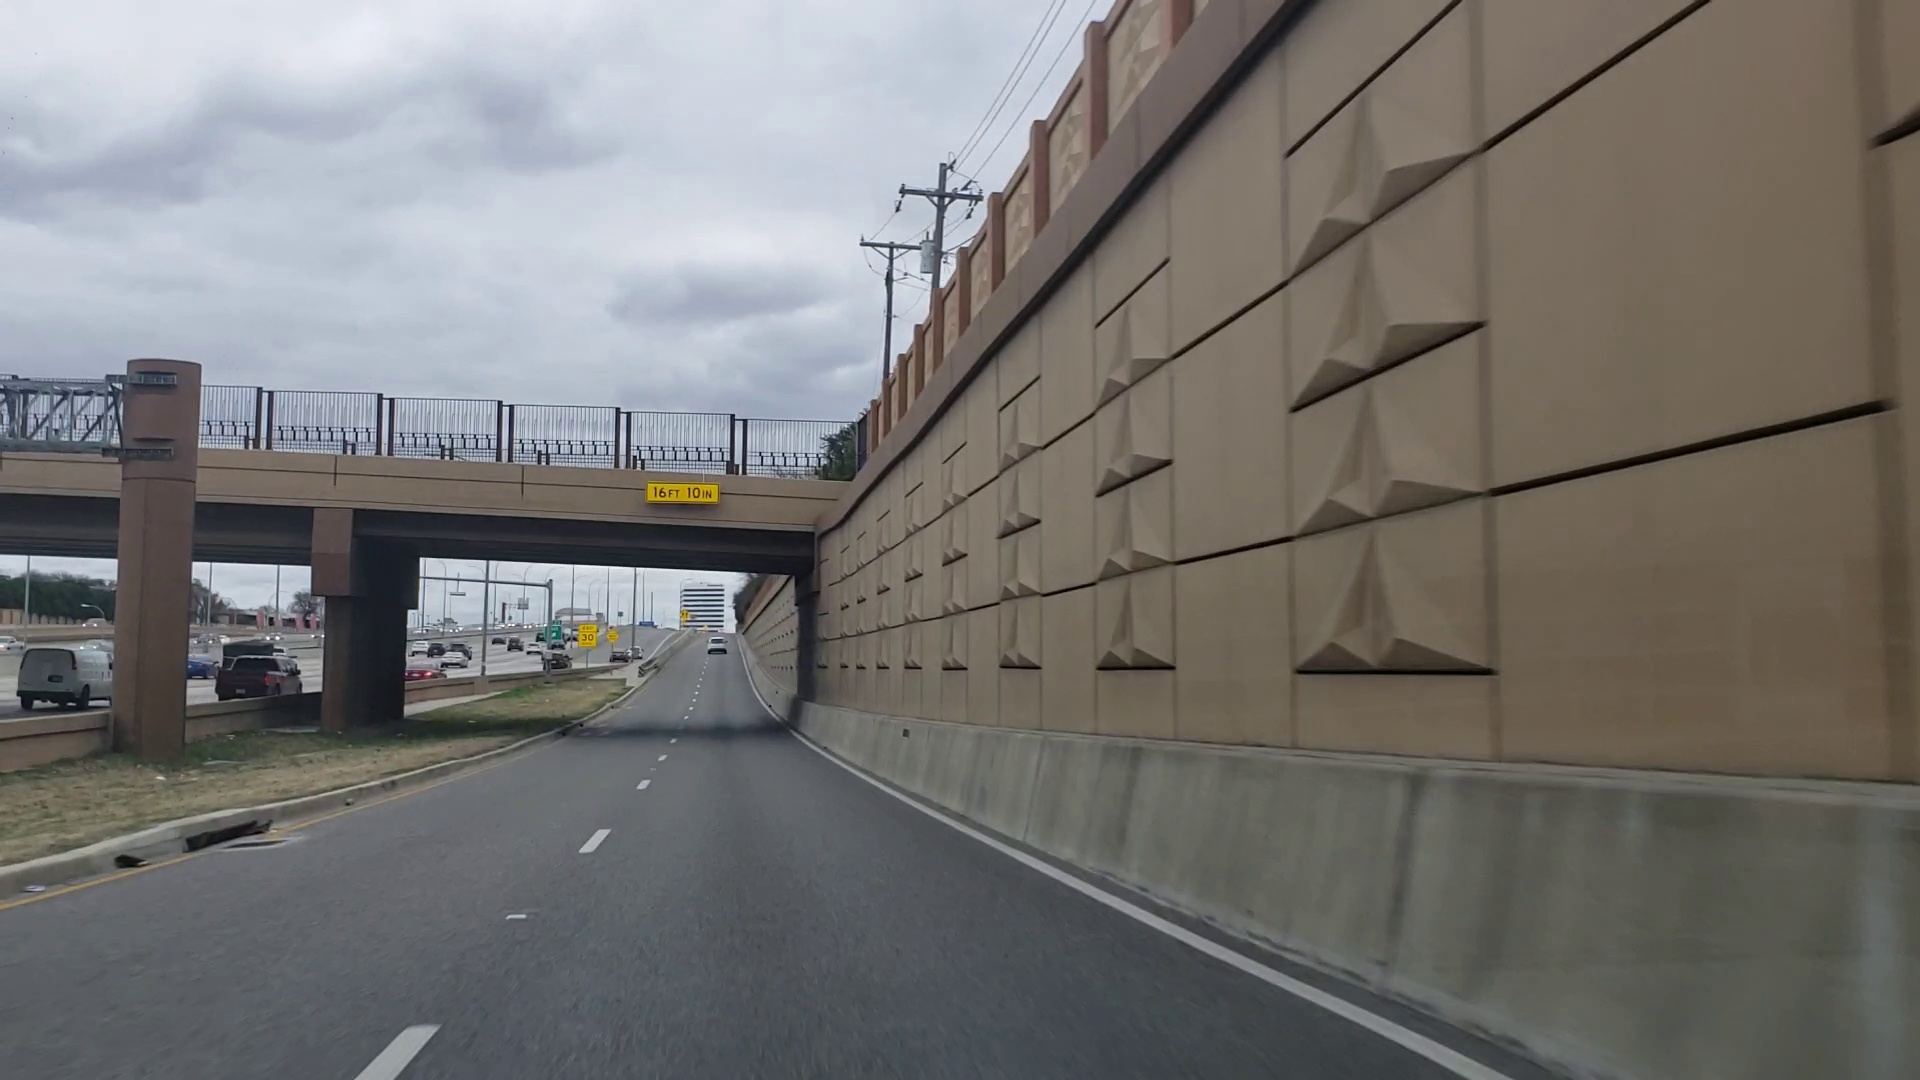car: (189, 651, 220, 682), (406, 661, 444, 684), (541, 650, 575, 670), (705, 634, 729, 654), (443, 653, 469, 669), (505, 636, 527, 650), (452, 641, 473, 655), (413, 640, 431, 654), (612, 647, 632, 659), (429, 641, 443, 655), (628, 646, 644, 659), (526, 644, 542, 654)
truck: (15, 651, 120, 712), (218, 658, 302, 698)
